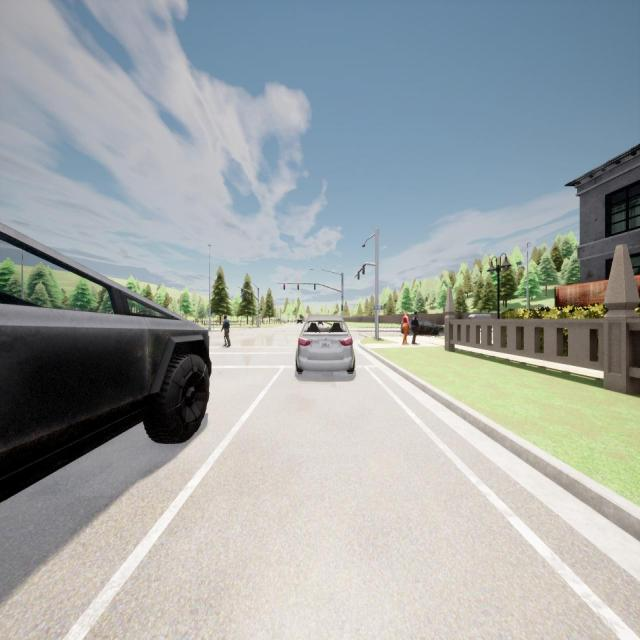Pedestrian: (220, 315, 232, 349), (412, 309, 419, 346), (403, 310, 410, 345)
Traffic_Signs: (373, 306, 382, 309)
Vehicle: (0, 223, 211, 501), (292, 314, 354, 381), (400, 318, 444, 338), (468, 312, 492, 330), (295, 318, 303, 326)
traffic_light: (357, 271, 360, 280), (362, 265, 364, 274), (283, 284, 285, 290), (298, 284, 299, 290), (314, 284, 315, 290), (342, 305, 342, 311)
